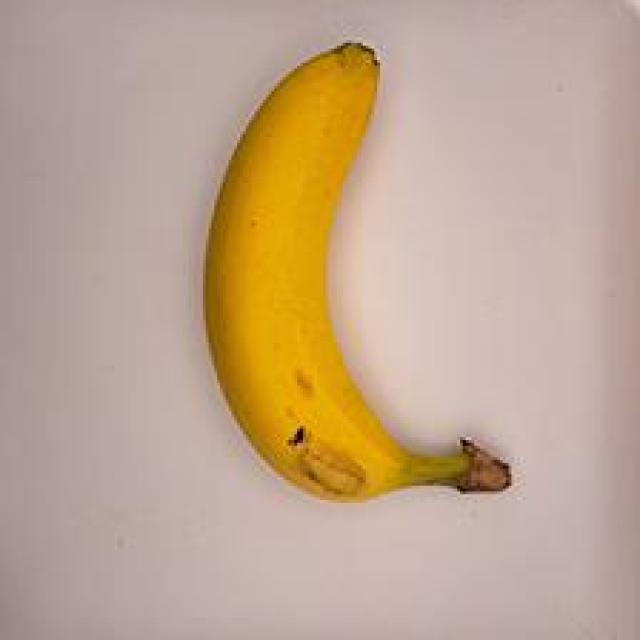Ripe: (177, 26, 524, 525)
